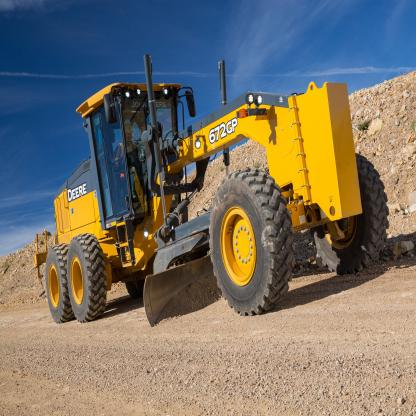bull_dozer/loader/grader: (20, 70, 394, 334)
